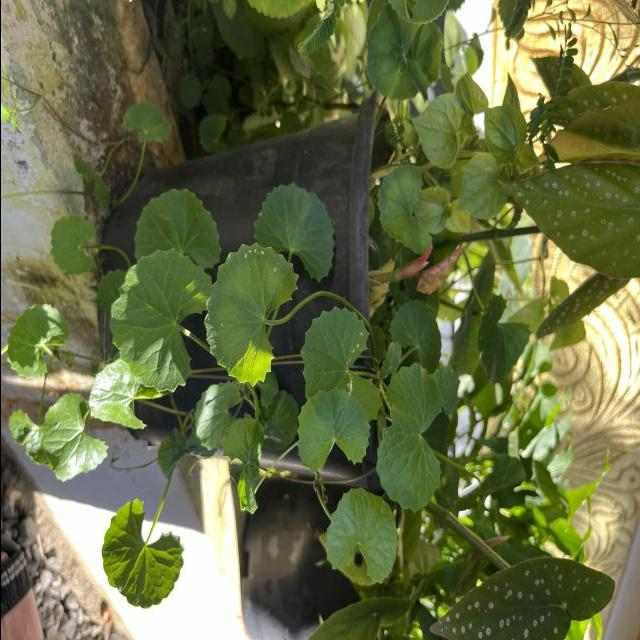Centella asiatica: (107, 246, 213, 395), (202, 240, 300, 388), (373, 359, 445, 516), (298, 303, 386, 425), (323, 484, 398, 586), (294, 386, 372, 476)
